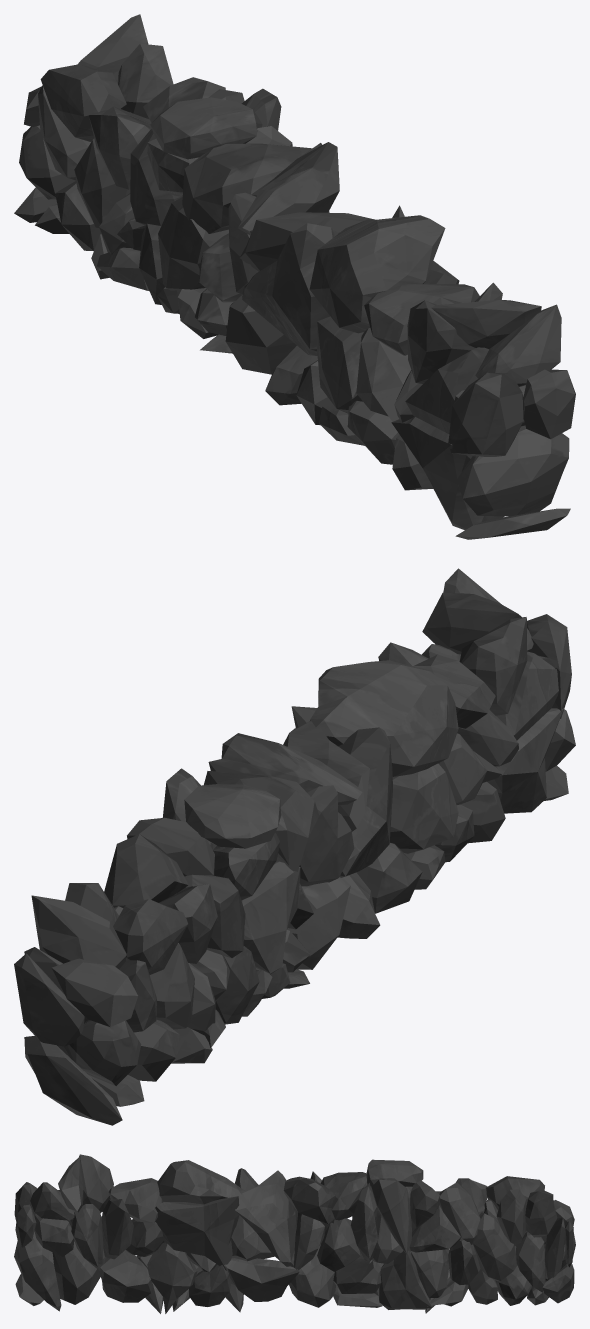
File: stone_wall.fbx
The picture shows the model from 3 angles, top to bottom: view 1: azimuth 30°, elevation 25°; view 2: azimuth 150°, elevation 25°; view 3: azimuth 270°, elevation 25°; orthographic projection. The views are drawn at different scales.
Visible parts, largest first — view 1: Wall Low Poly; view 2: Wall Low Poly; view 3: Wall Low Poly.
Part boxes in pixels (x1,y1,x2,y2): Wall Low Poly: [14, 14, 575, 539]; Wall Low Poly: [14, 568, 575, 1125]; Wall Low Poly: [14, 1154, 575, 1313].
Bounding box in the file's own units: 619 × 1068 × 4026.
